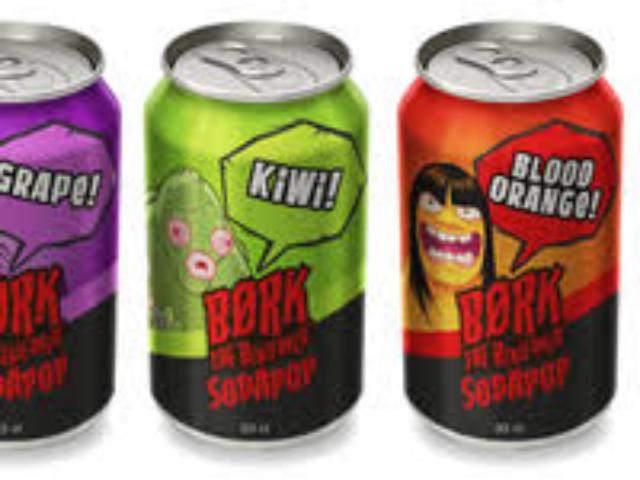metal: (147, 26, 365, 438), (397, 19, 614, 432), (0, 19, 112, 432)
